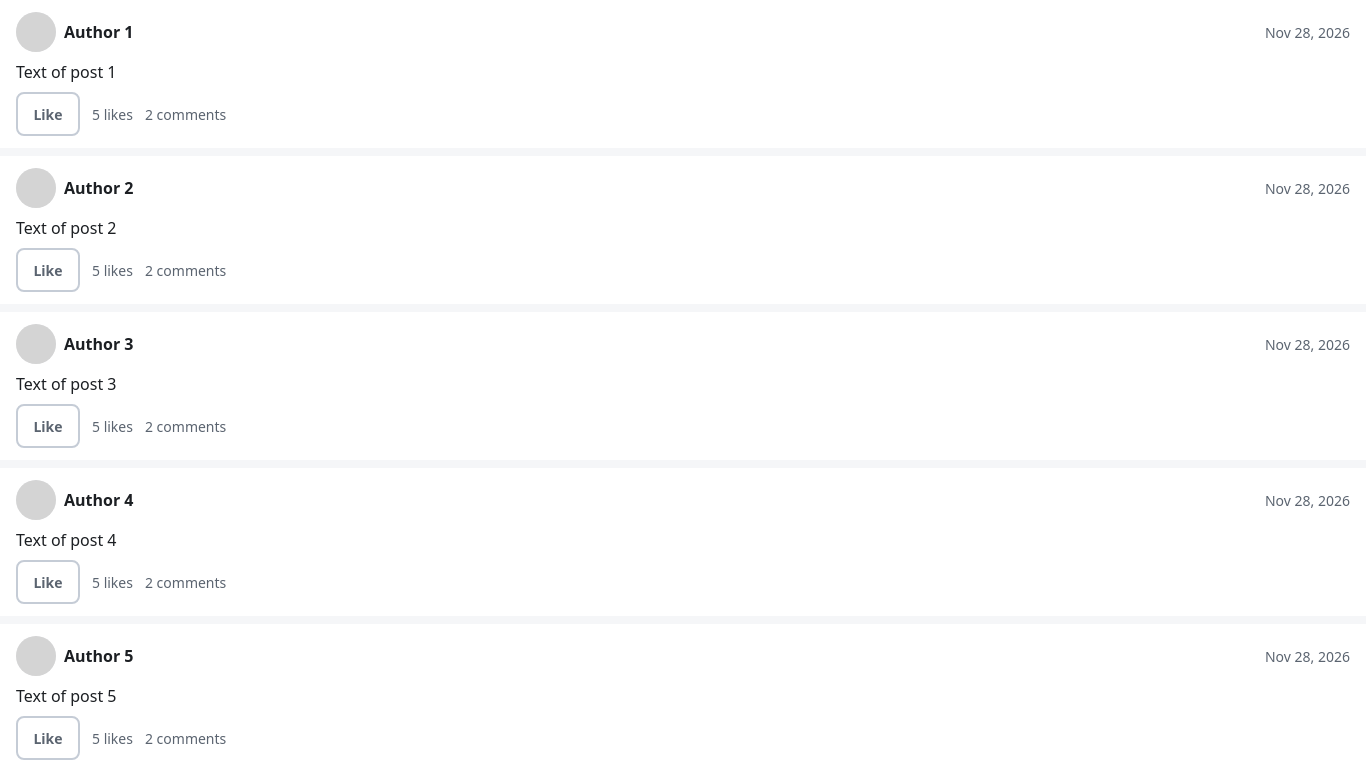
Feed: the like button › uses the offline wording when the browser says it is offline
Click the 1st button "Like": click(48, 114) [16,92,80,136]
(page scrolled)
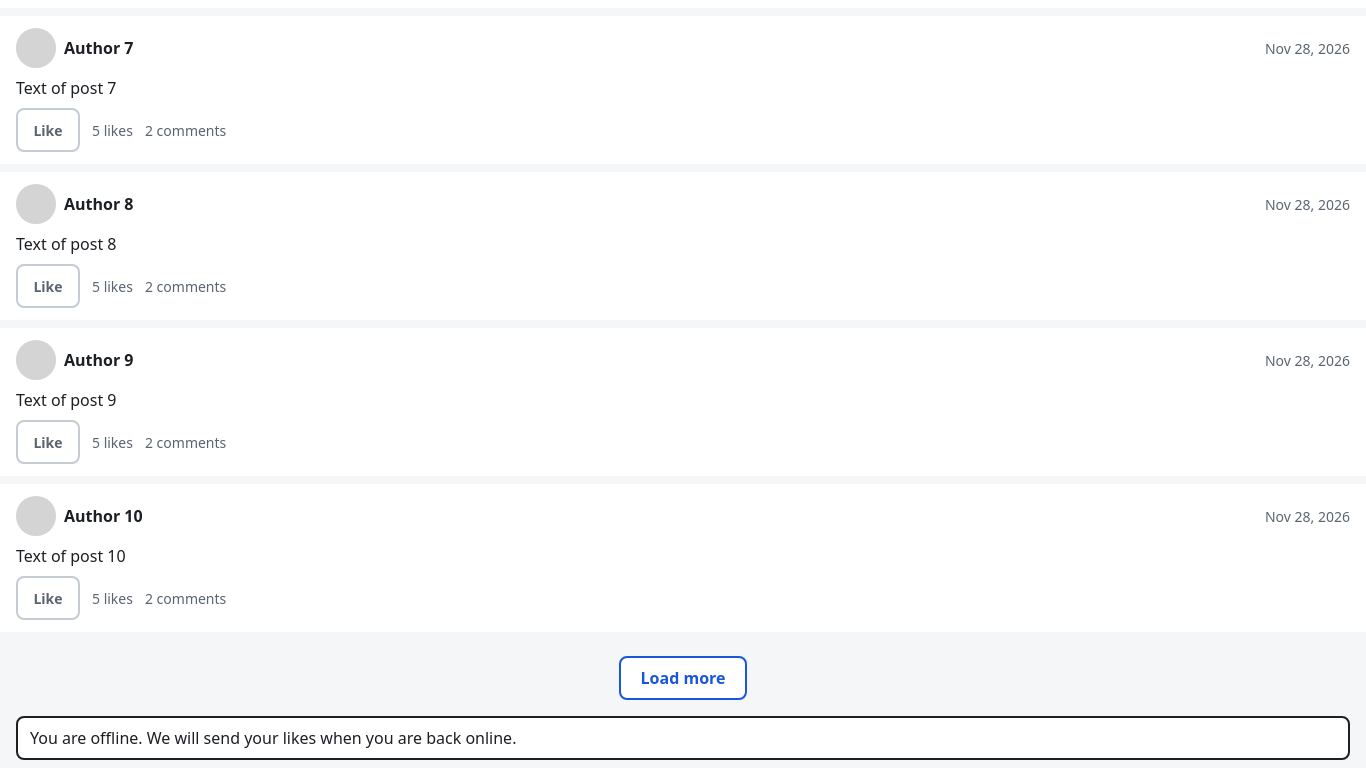
Expected: the text "You are offline. We will send your likes when you are back online." is shown, [16,716,1350,760]
